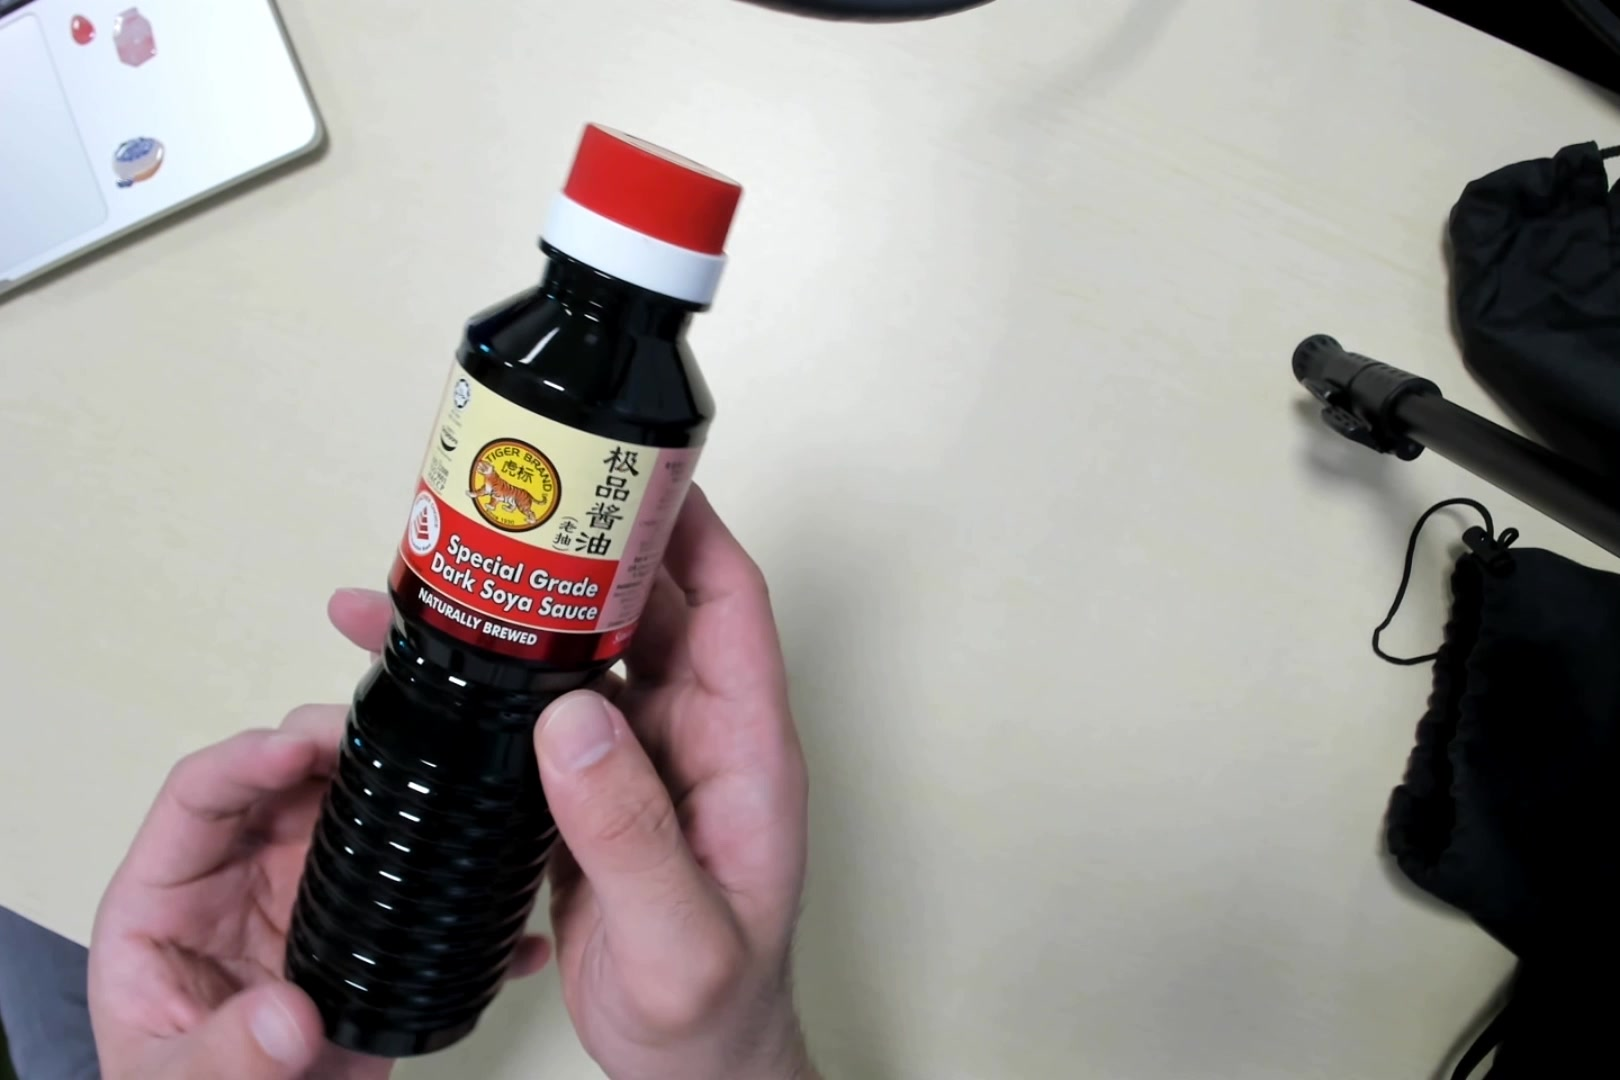DarkSoySauce_300-399g_Halal_NonHealthy: (309, 117, 718, 1080)
